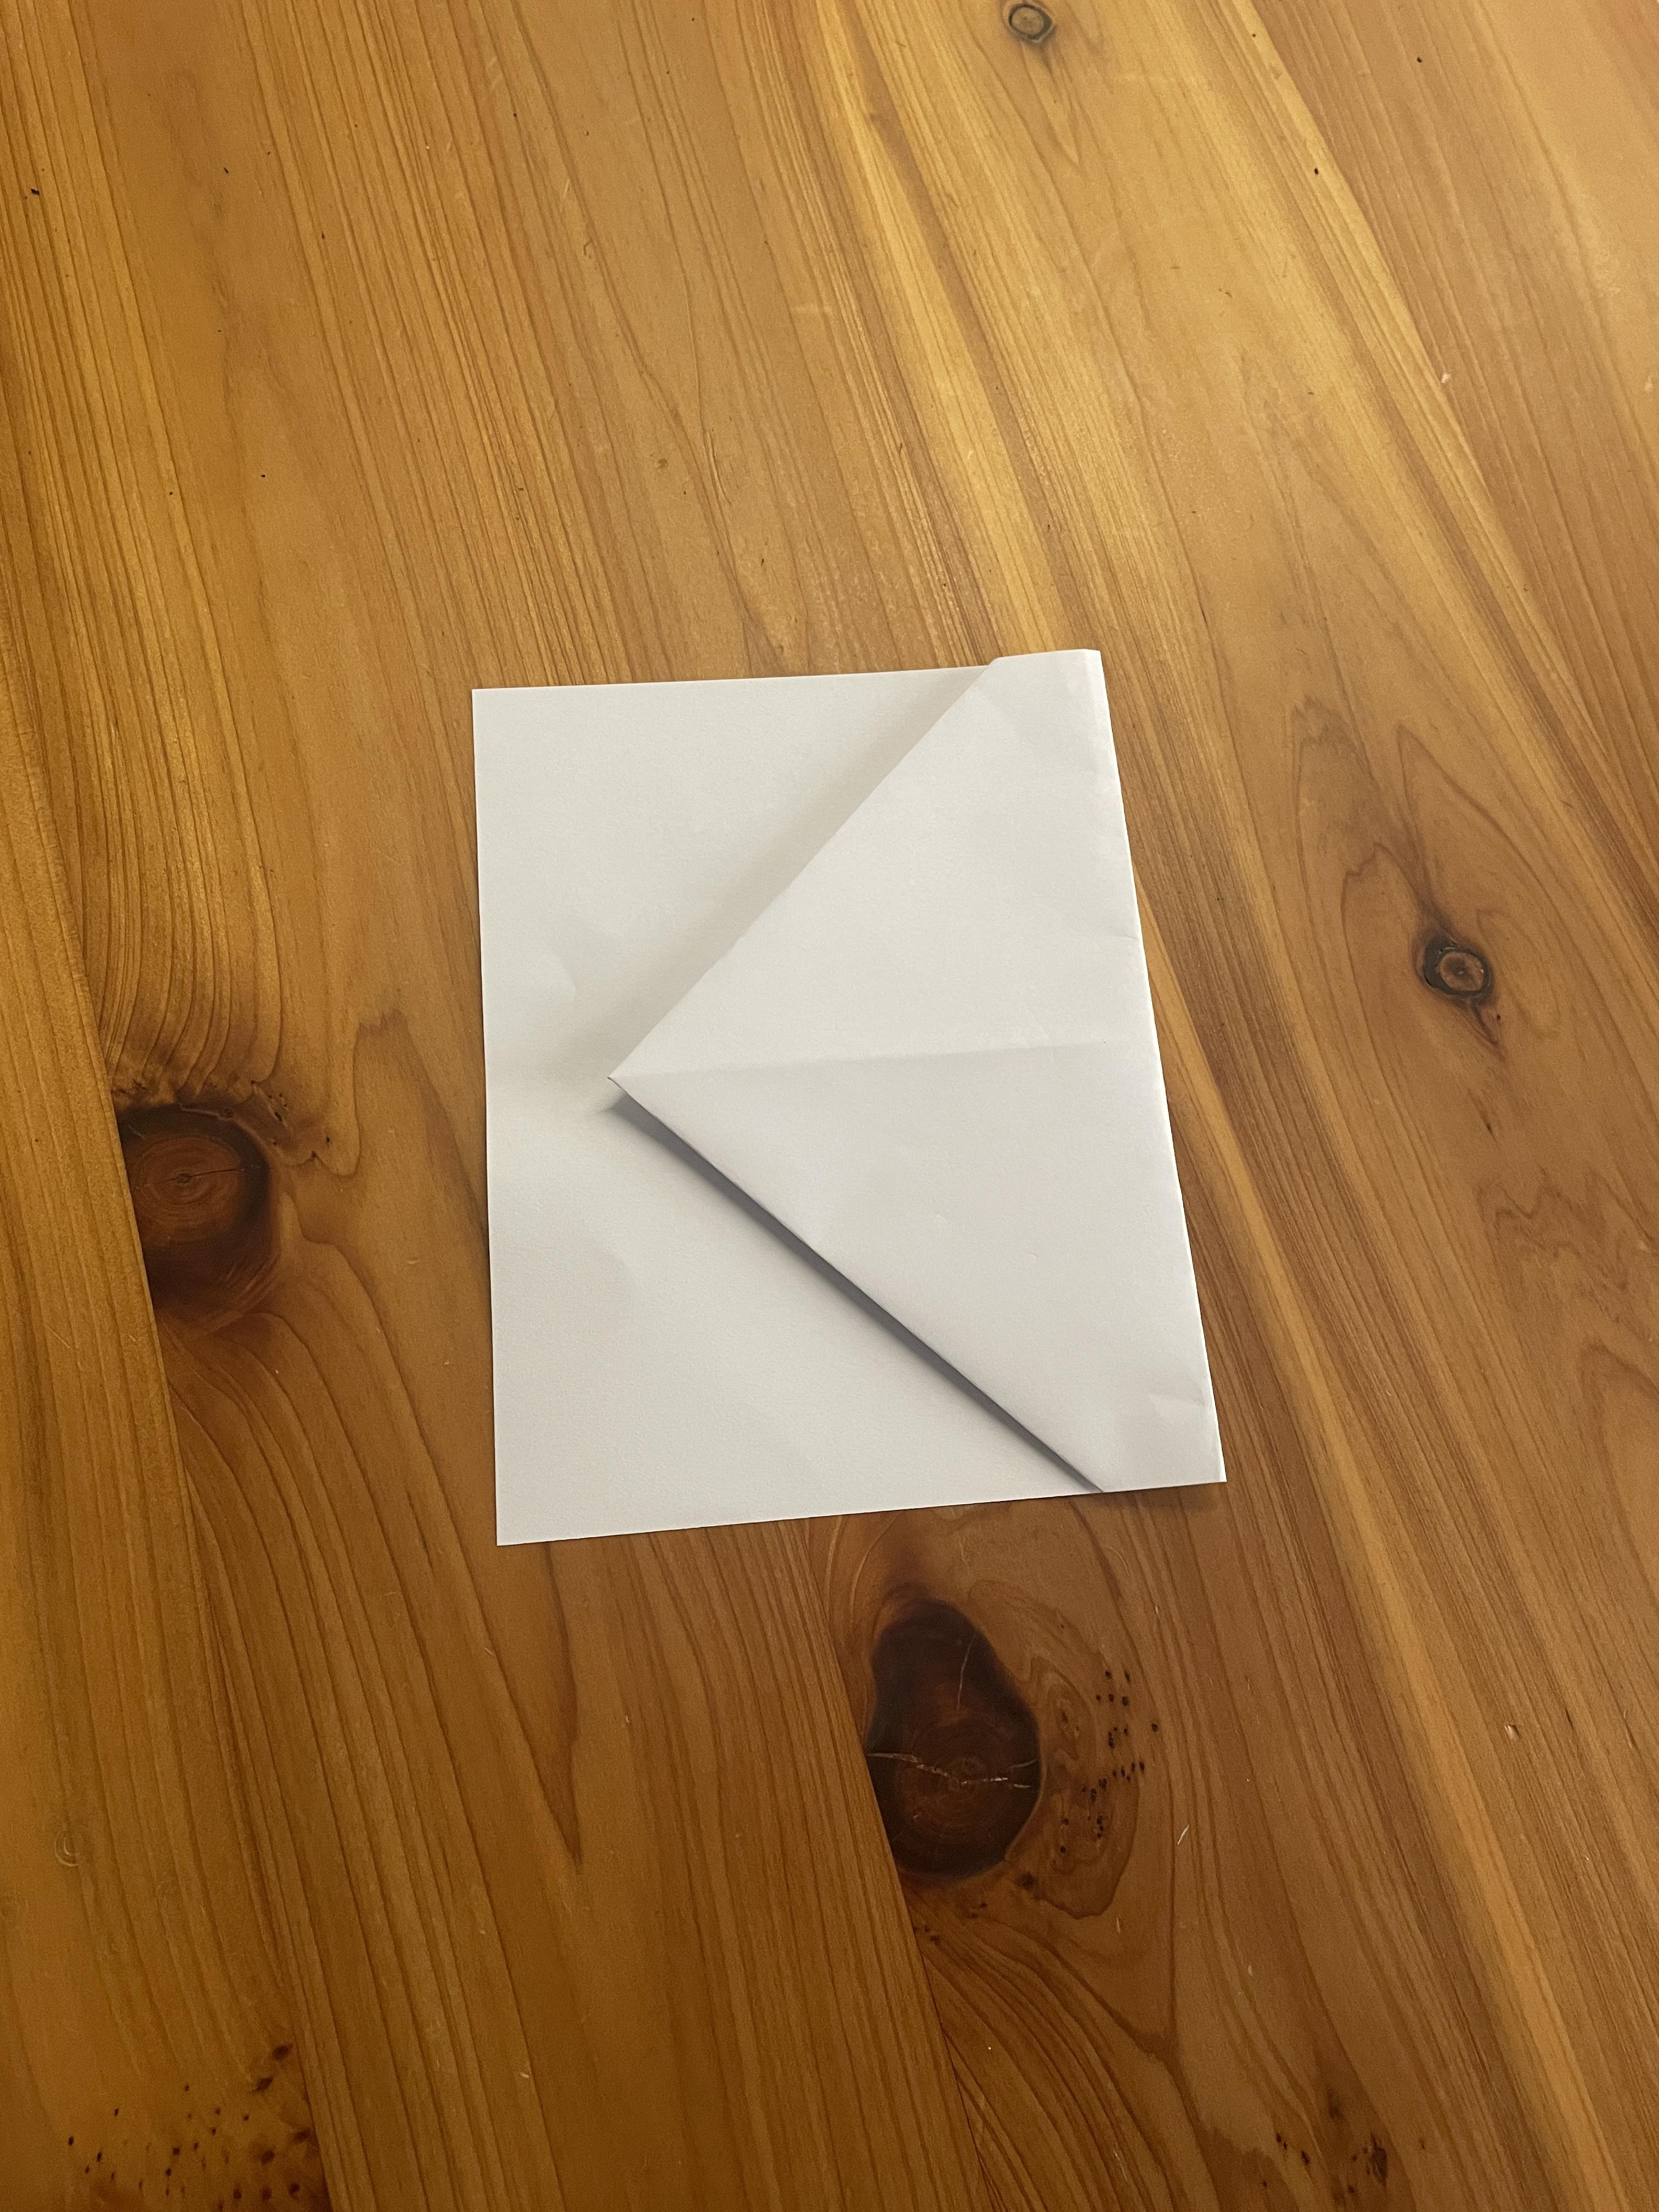shape_1: (411, 550, 1302, 1670)
